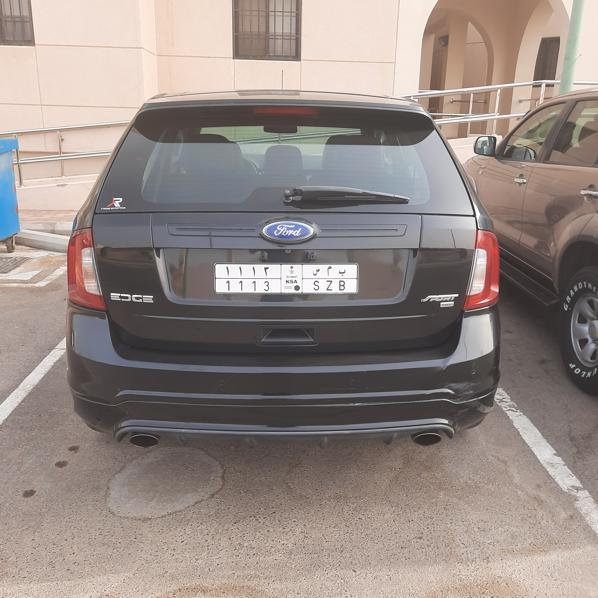numberplate: (214, 263, 358, 293)
